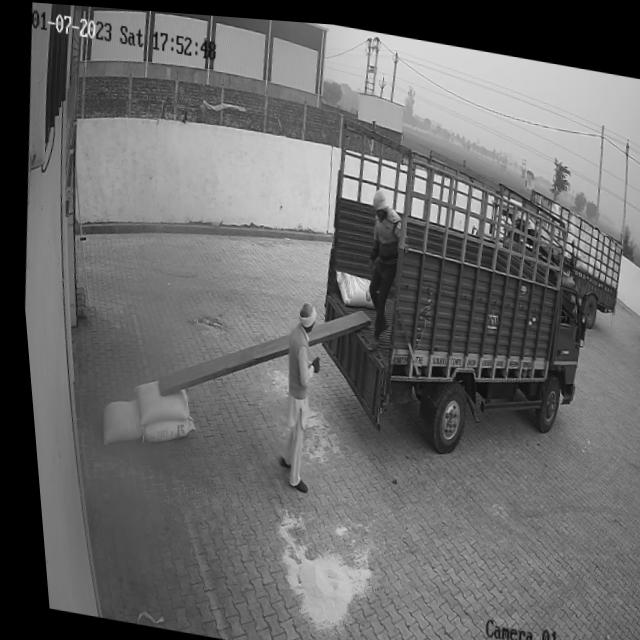sack: (122, 375, 184, 429), (90, 390, 139, 450), (134, 407, 189, 445), (327, 263, 370, 305)
